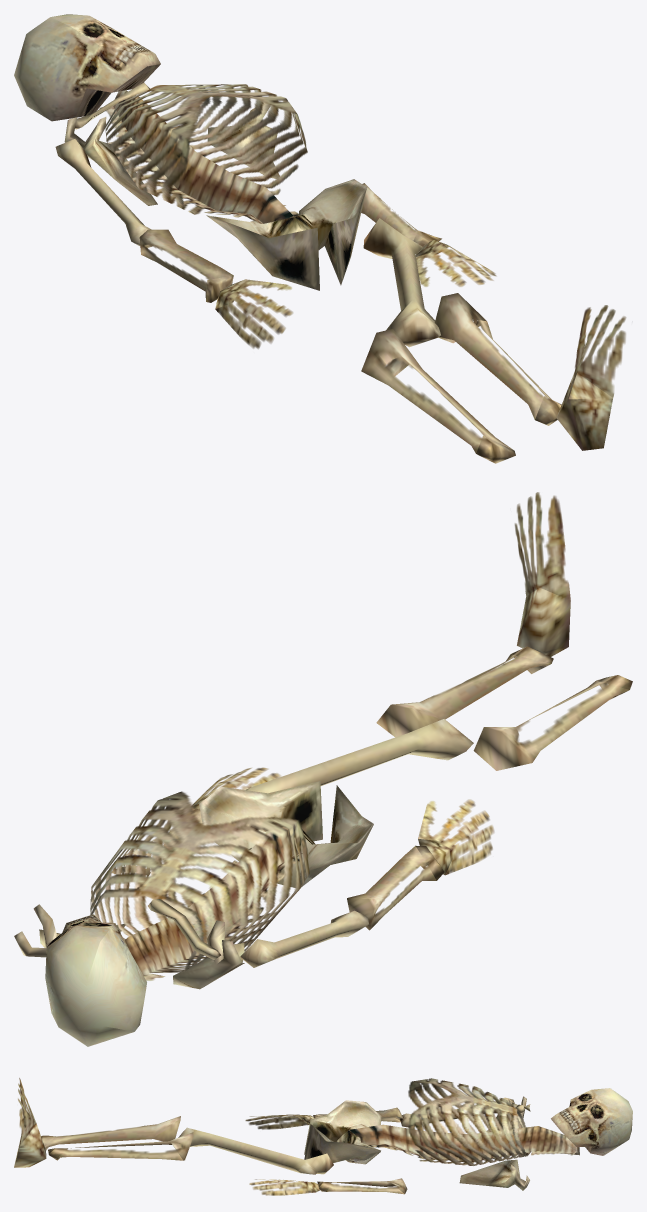
The model's file is d_sk_lay3.glb.
3 renders of one model, top to bottom at view 1: azimuth 30°, elevation 25°; view 2: azimuth 150°, elevation 25°; view 3: azimuth 270°, elevation 25°, orthographic. The views are drawn at different scales.
Parts seen in each view (by area): view 1: d_sk_lay3; view 2: d_sk_lay3; view 3: d_sk_lay3.
Boxes of the visible parts, <box> form: d_sk_lay3: <box>14,14,626,463</box>; d_sk_lay3: <box>14,492,632,1046</box>; d_sk_lay3: <box>14,1078,632,1195</box>.
Bounding box in the file's own units: 0.5002 × 0.2958 × 1.72.
2 materials, 2 textured.
